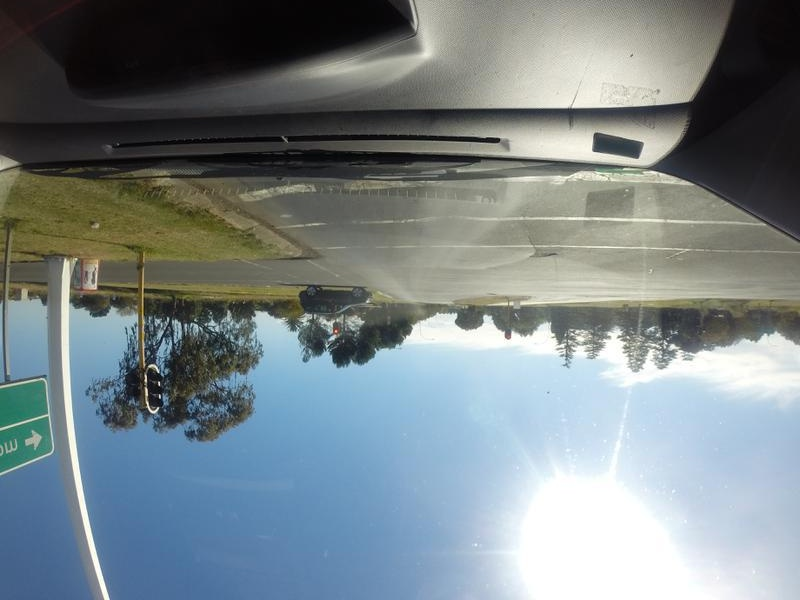pothole: (527, 248, 562, 258)
